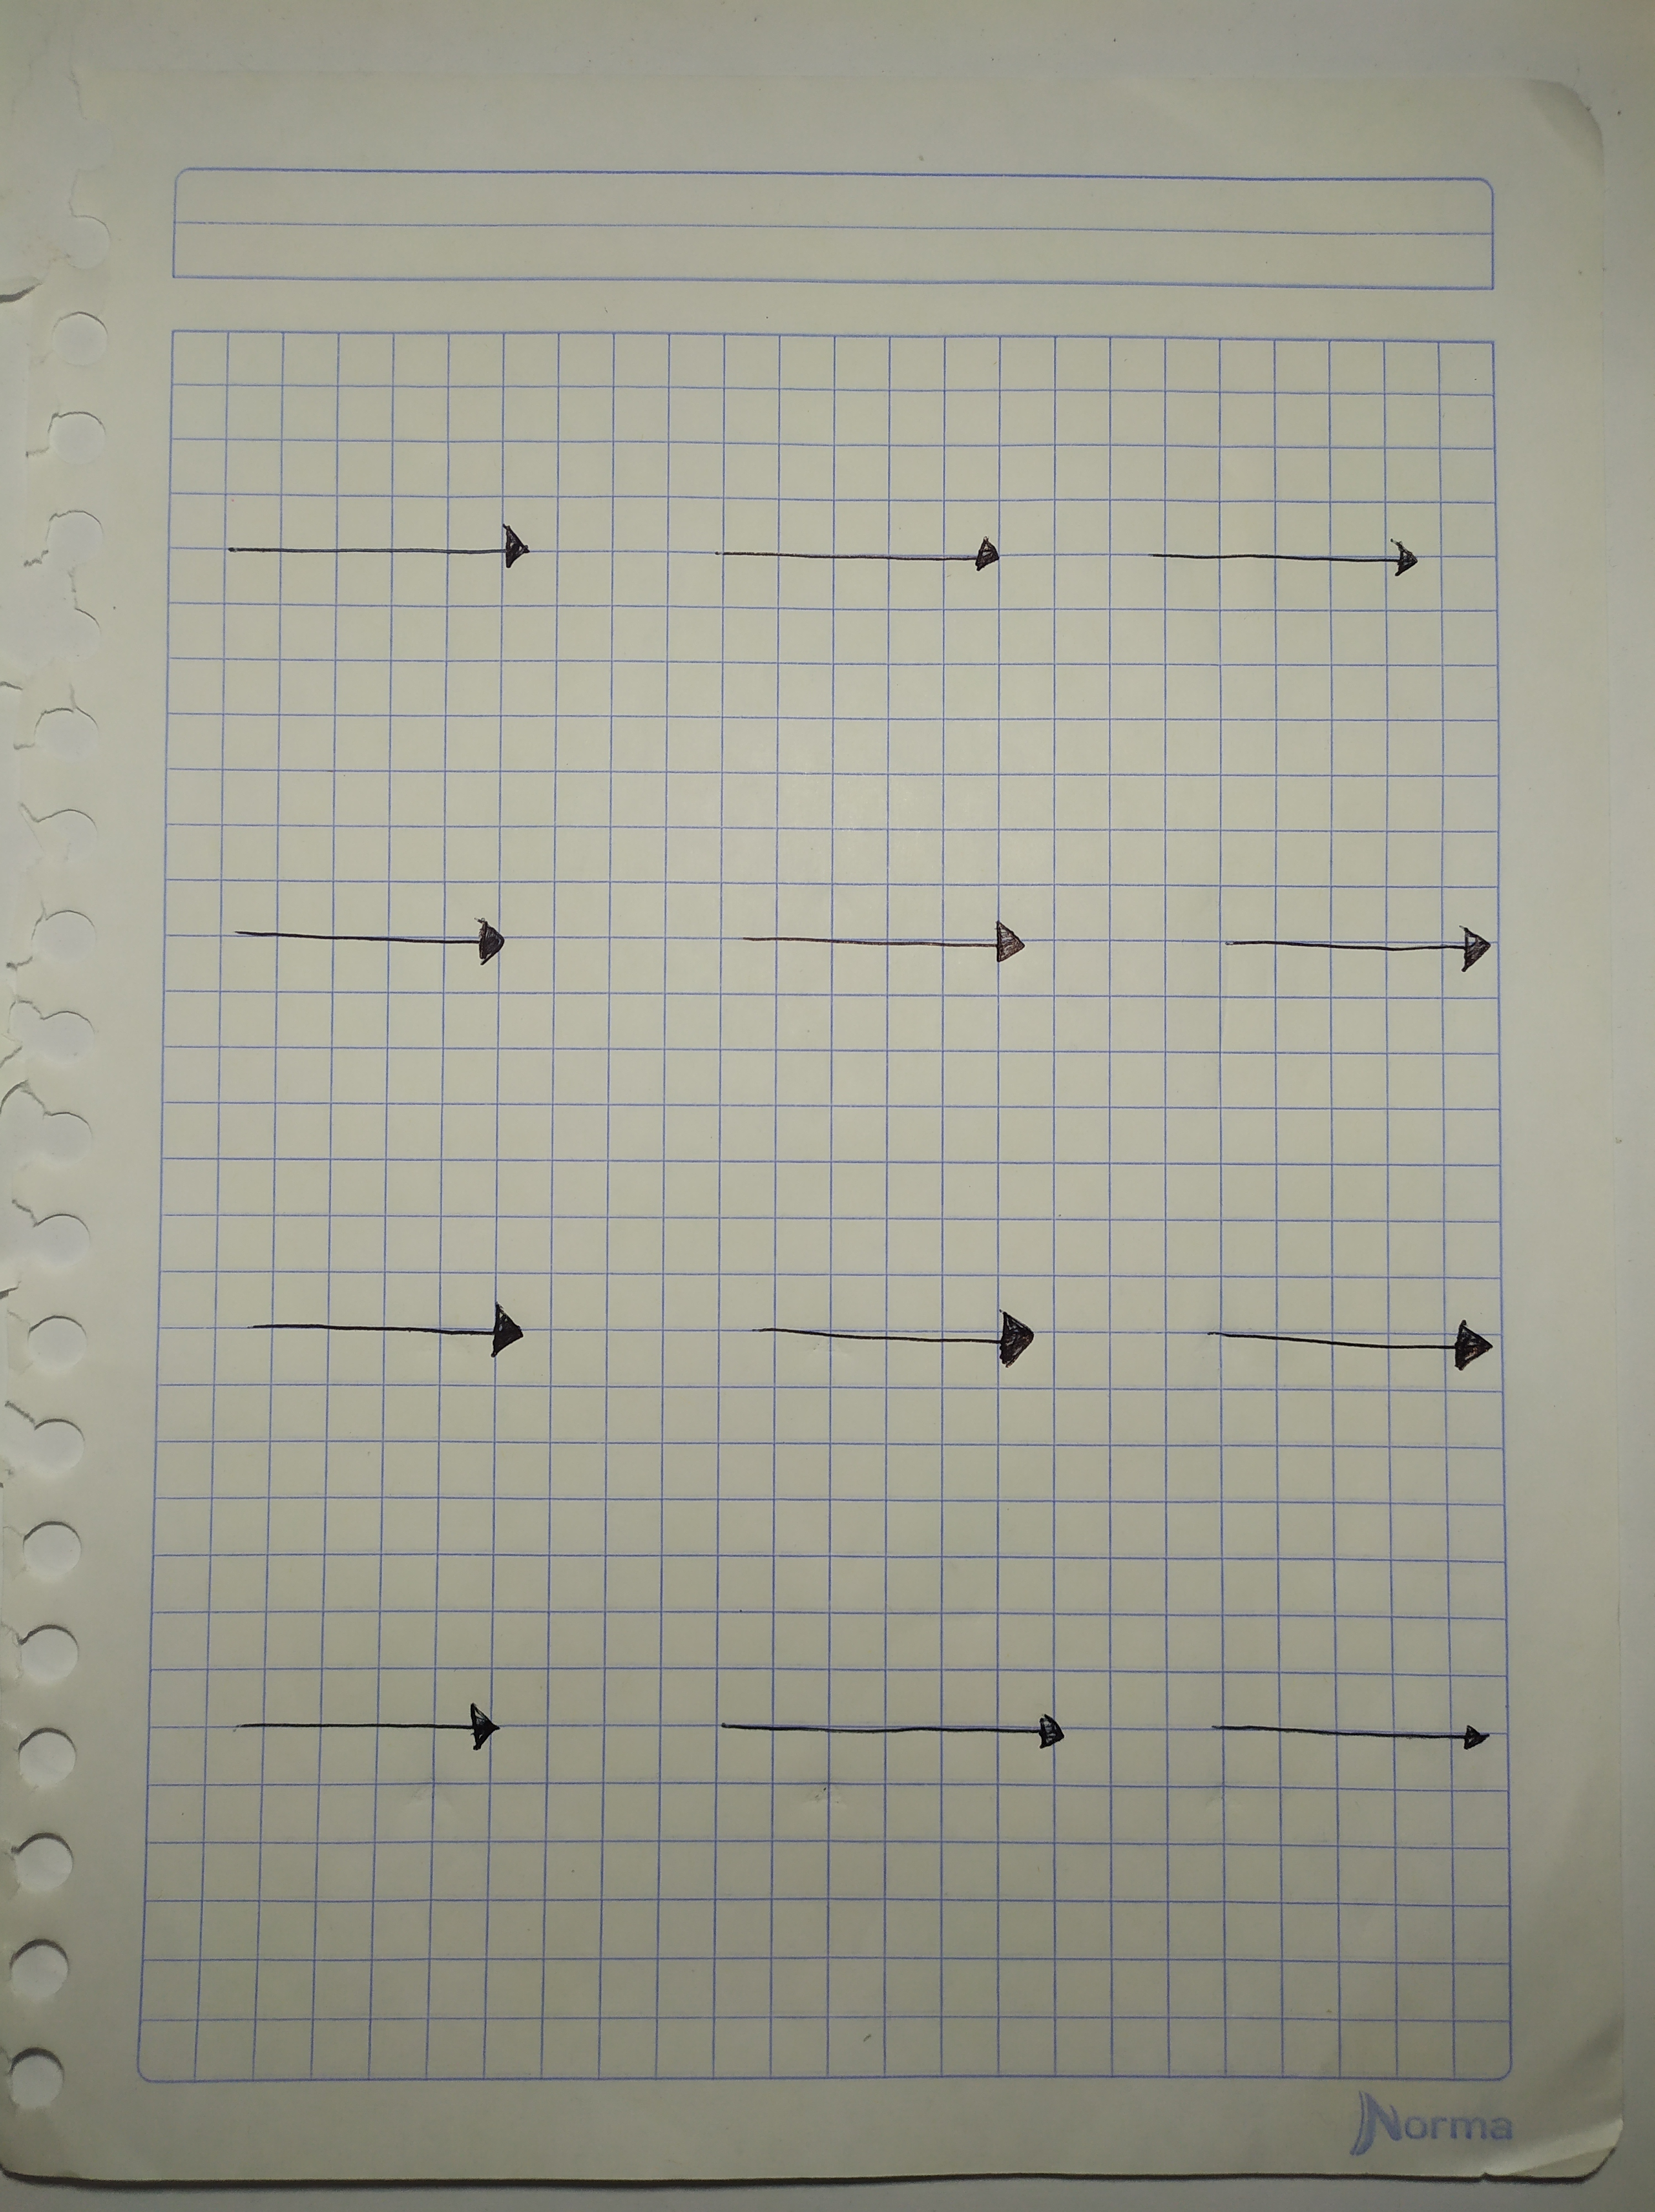arrow_line_right: (699, 1265, 1060, 1399), (203, 483, 577, 599), (683, 1682, 1121, 1781), (695, 884, 1057, 1004), (207, 1274, 582, 1385), (1186, 1682, 1547, 1791), (210, 1659, 518, 1783), (1166, 1288, 1502, 1401), (1177, 871, 1499, 985), (200, 886, 549, 990), (685, 502, 1036, 599), (1106, 511, 1452, 605)
